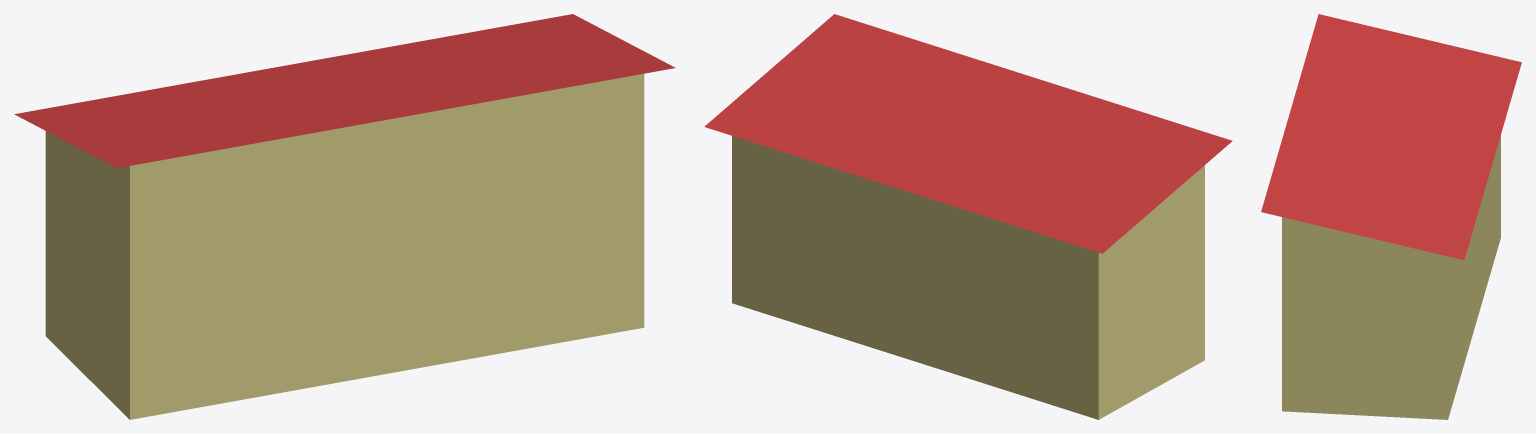
3 renders of one model, left to right at view 1: azimuth 30°, elevation 25°; view 2: azimuth 150°, elevation 25°; view 3: azimuth 270°, elevation 25°, orthographic. The views are drawn at different scales.
Size of the model in its own units: 13.12 by 6.93 by 6.04.
